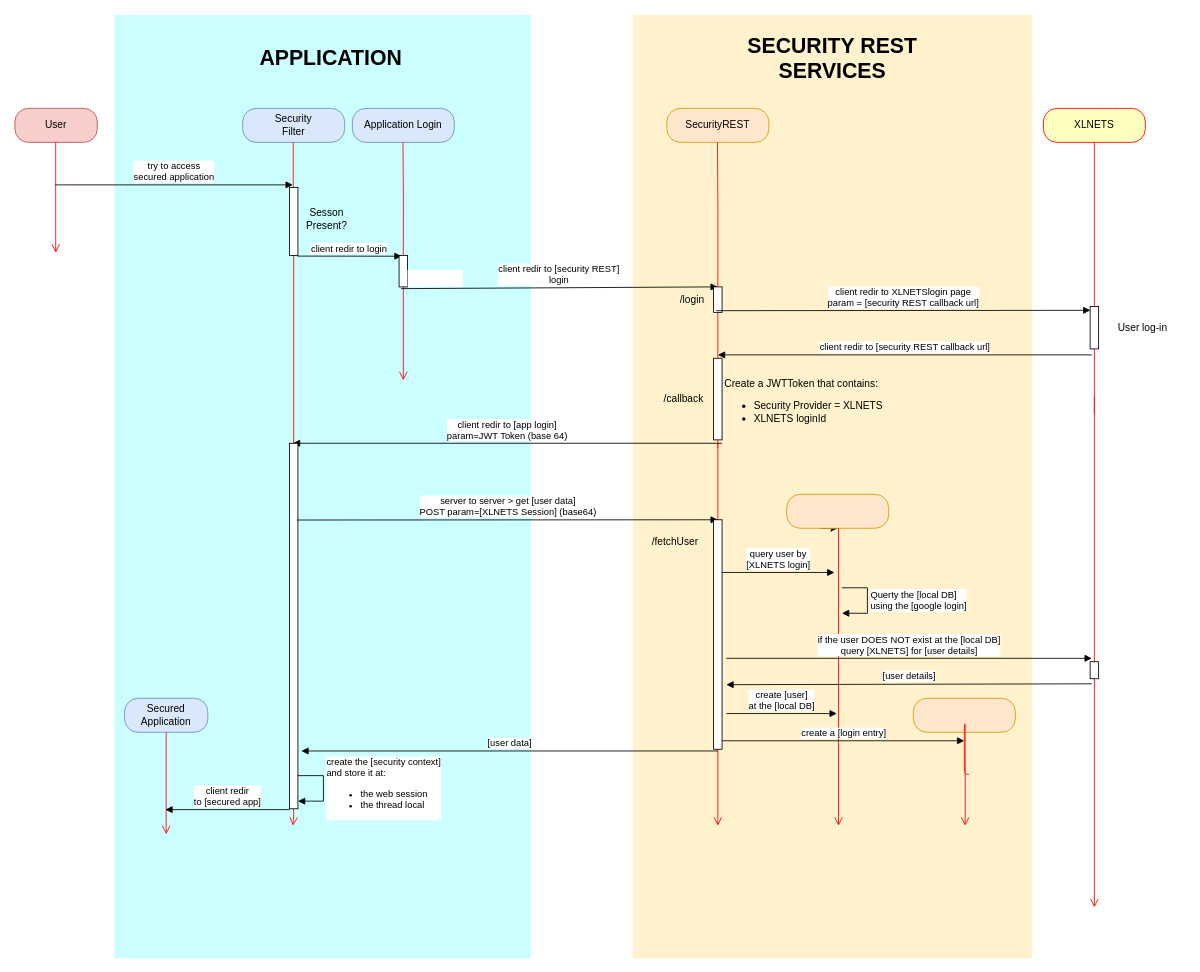
This 1200x972 diagram has some shape labels left out. The shapes that lost their labels are listed below. From the top down, each one's box as (x1, y1, x2, y2) in pixels, then its label:
(407, 269, 462, 286): Login Page XLNETS clicked
(786, 493, 889, 528): User CRUD
(912, 697, 1015, 732): Login EntryCRUD
